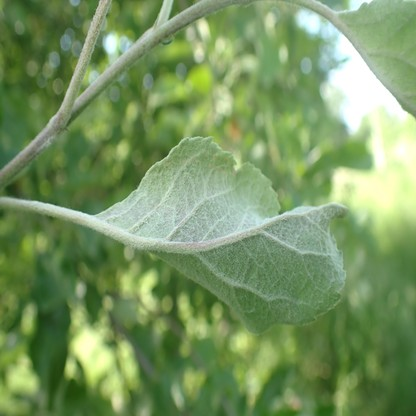powder: (99, 137, 349, 332)
